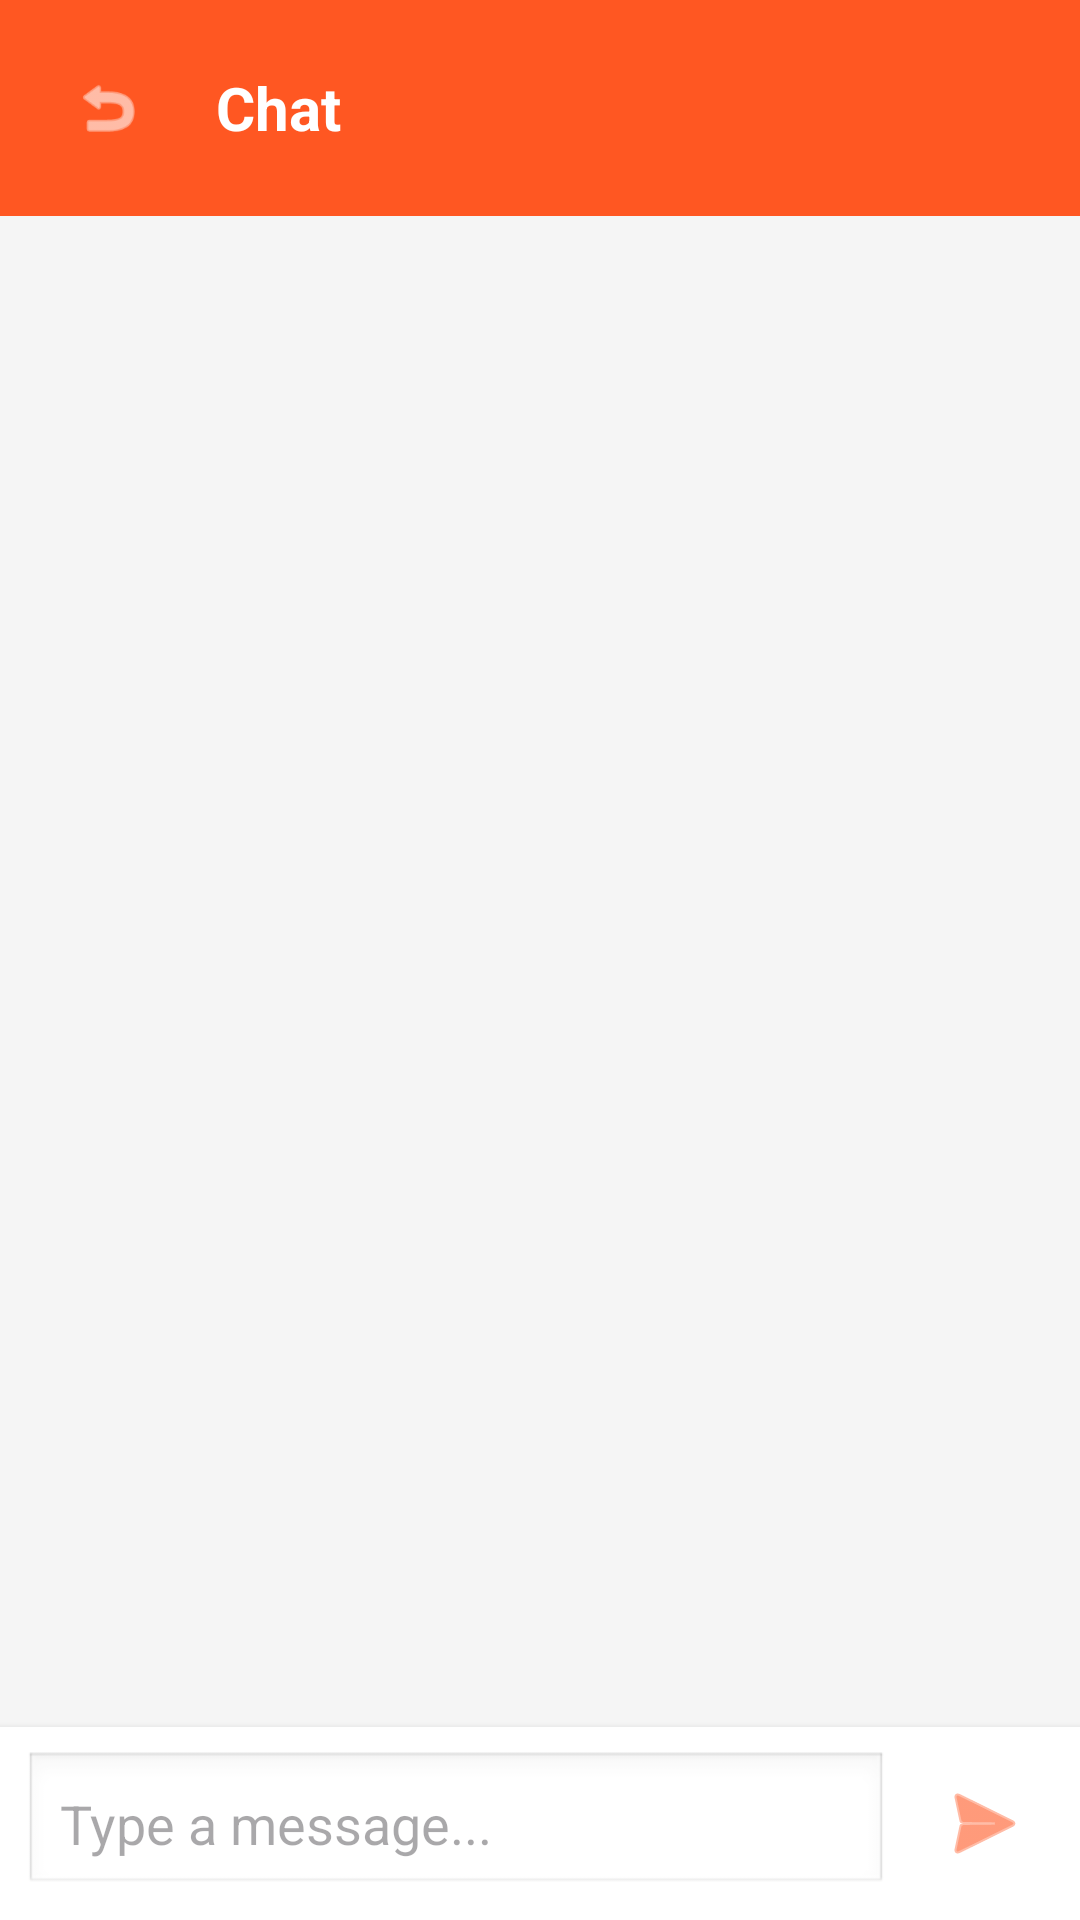

Locate icon controls on the screen. Image size 1080*1920, boxes as (x1, y1, x2, y2).
revert: (83, 85, 135, 132)
send: (954, 1793, 1016, 1854)
